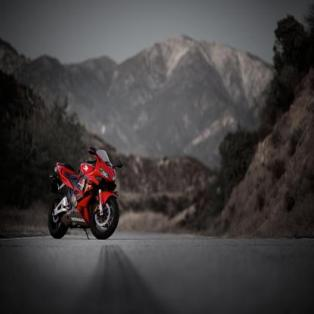Motocicleta: (48, 146, 121, 243)
